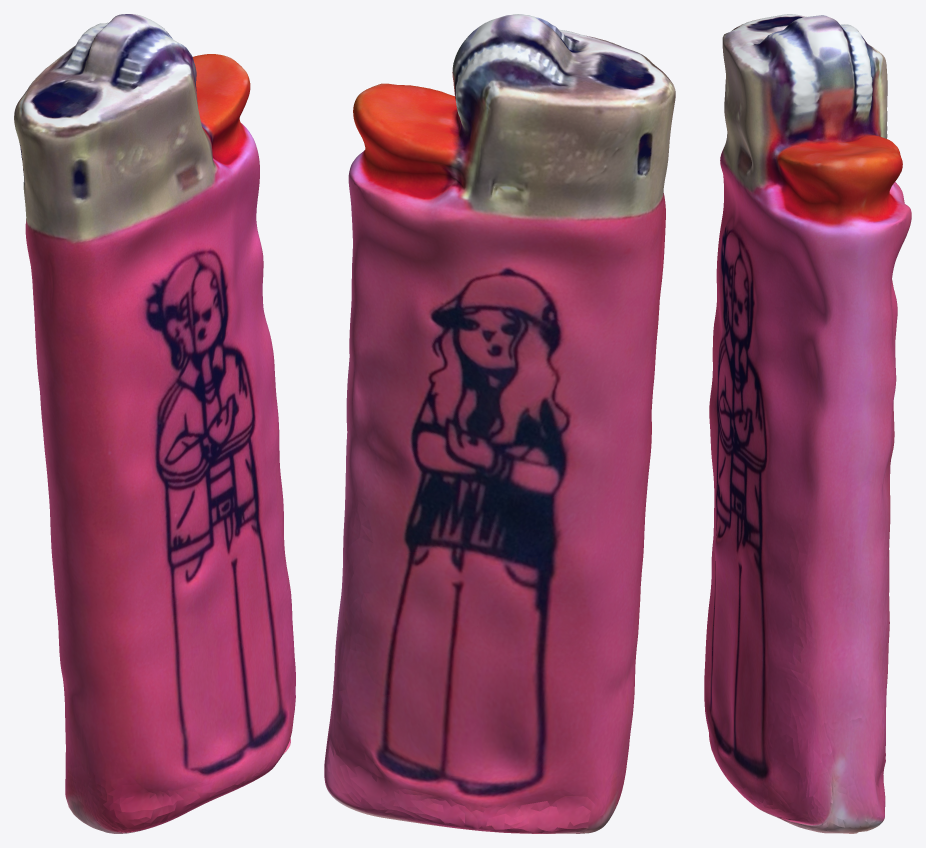
Rendered from feuerzeug.glb.
3 views of the same model, side by side, from view 1: azimuth 30°, elevation 25°; view 2: azimuth 150°, elevation 25°; view 3: azimuth 270°, elevation 25° (orthographic). The views are drawn at different scales.
Parts seen in each view (by area): view 1: 3DModel; view 2: 3DModel; view 3: 3DModel.
Part boxes in pixels (x1,y1,x2,y2): 3DModel: [14, 14, 295, 833]; 3DModel: [324, 14, 675, 833]; 3DModel: [704, 14, 911, 833].
Size of the model in its own units: 0.2192 by 0.5661 by 0.1403.
1 material, 1 textured.
